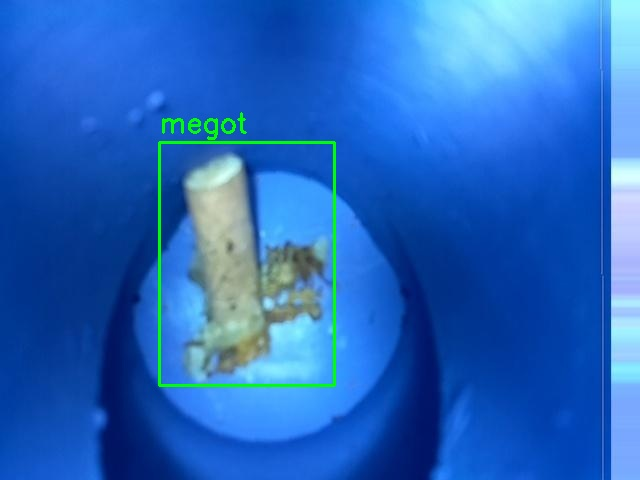megot: (159, 142, 334, 385)
